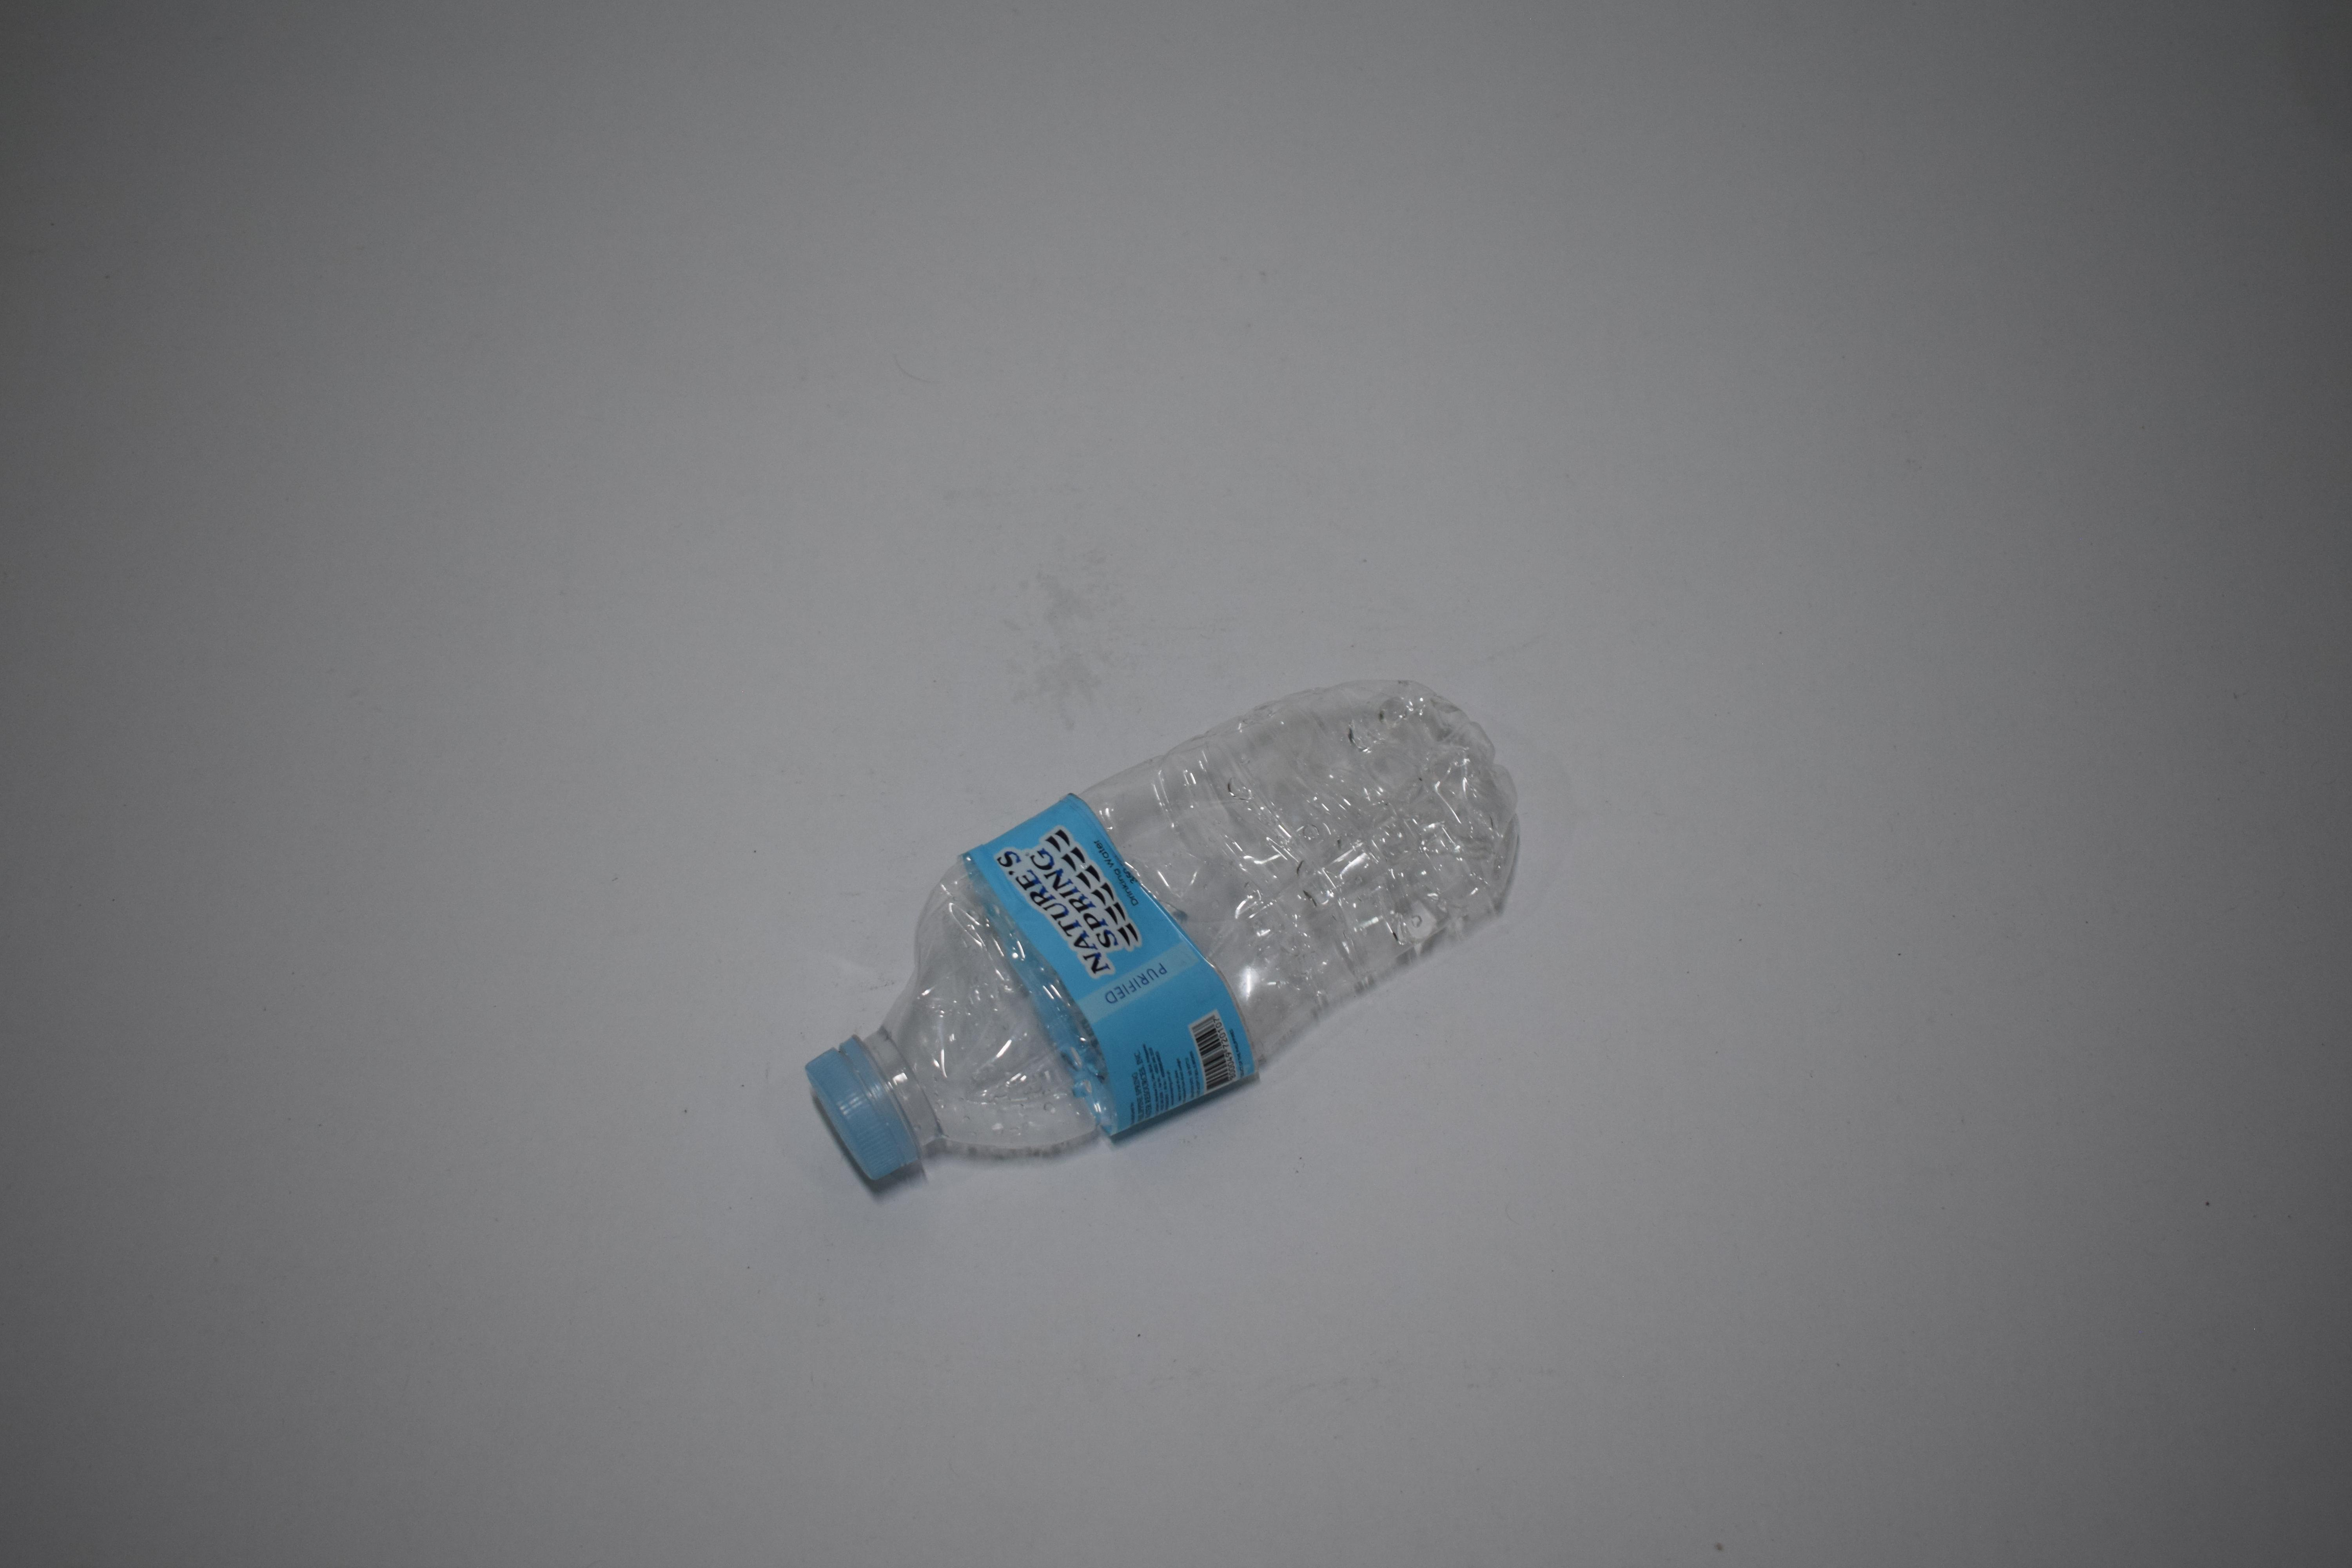bottle: (796, 0, 1524, 408)
